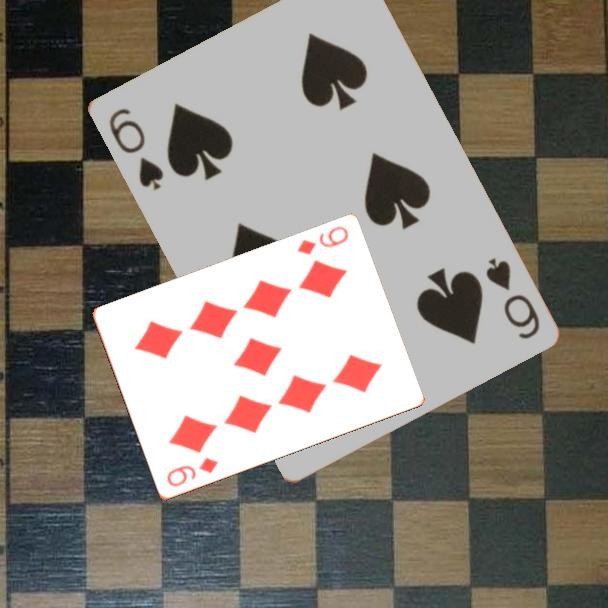d09: (163, 454, 221, 490), (293, 223, 351, 258)
s06: (104, 104, 166, 194), (481, 254, 543, 342)
